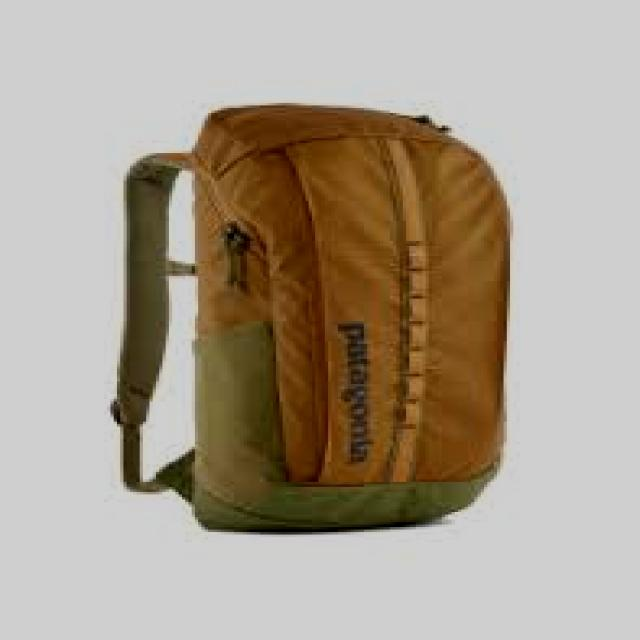backpack: (108, 101, 511, 533)
